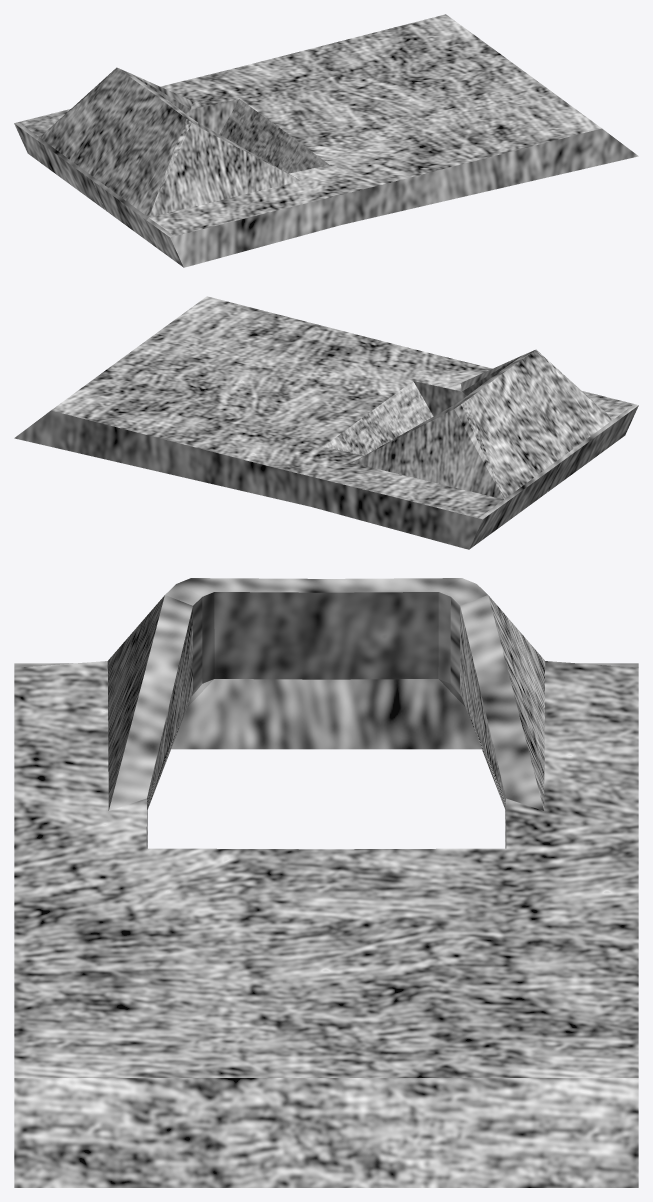
Rendered from techo_paja_punta_6x4_ventana.fbx.
3 renders of one model, top to bottom at view 1: azimuth 30°, elevation 25°; view 2: azimuth 150°, elevation 25°; view 3: azimuth 270°, elevation 25°, orthographic. The views are drawn at different scales.
Visible parts, largest first — view 1: techo_paja_punta_6x4_ventana; view 2: techo_paja_punta_6x4_ventana; view 3: techo_paja_punta_6x4_ventana.
Boxes of the visible parts, x1=… form: techo_paja_punta_6x4_ventana: x1=14, y1=14, x2=638, y2=267; techo_paja_punta_6x4_ventana: x1=14, y1=296, x2=638, y2=549; techo_paja_punta_6x4_ventana: x1=14, y1=578, x2=638, y2=1187.
Bounding box in the file's own units: 527 × 113 × 304.
